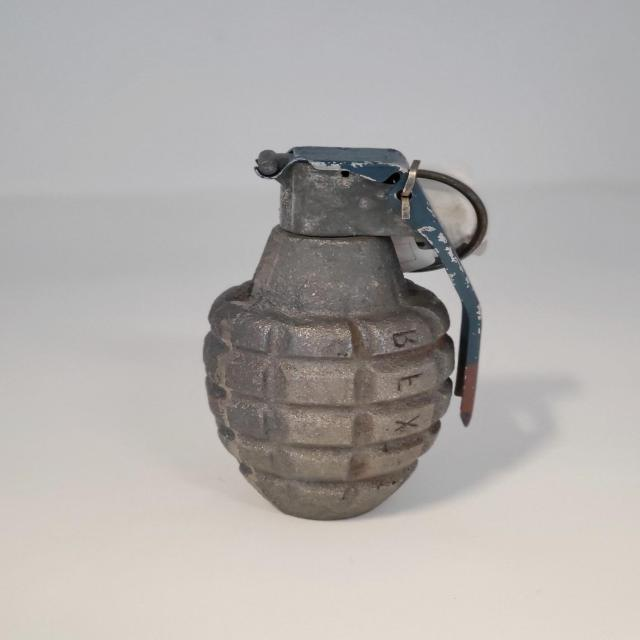grenade: (205, 148, 485, 524)
